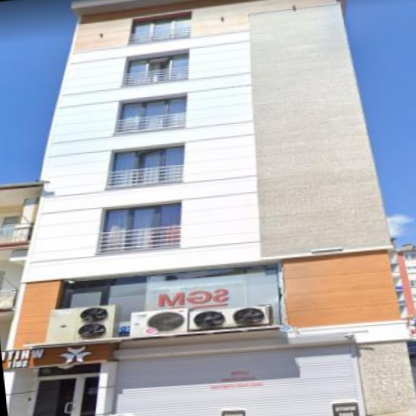door: (22, 374, 105, 416)
